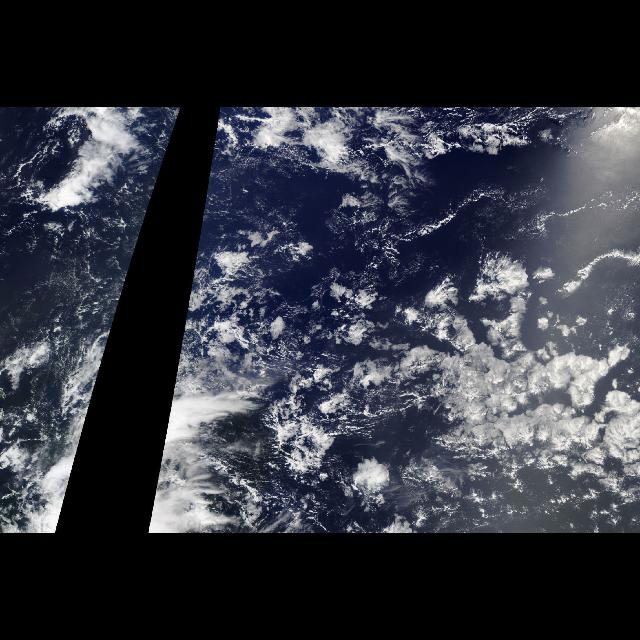Flower: (355, 265, 639, 495)
